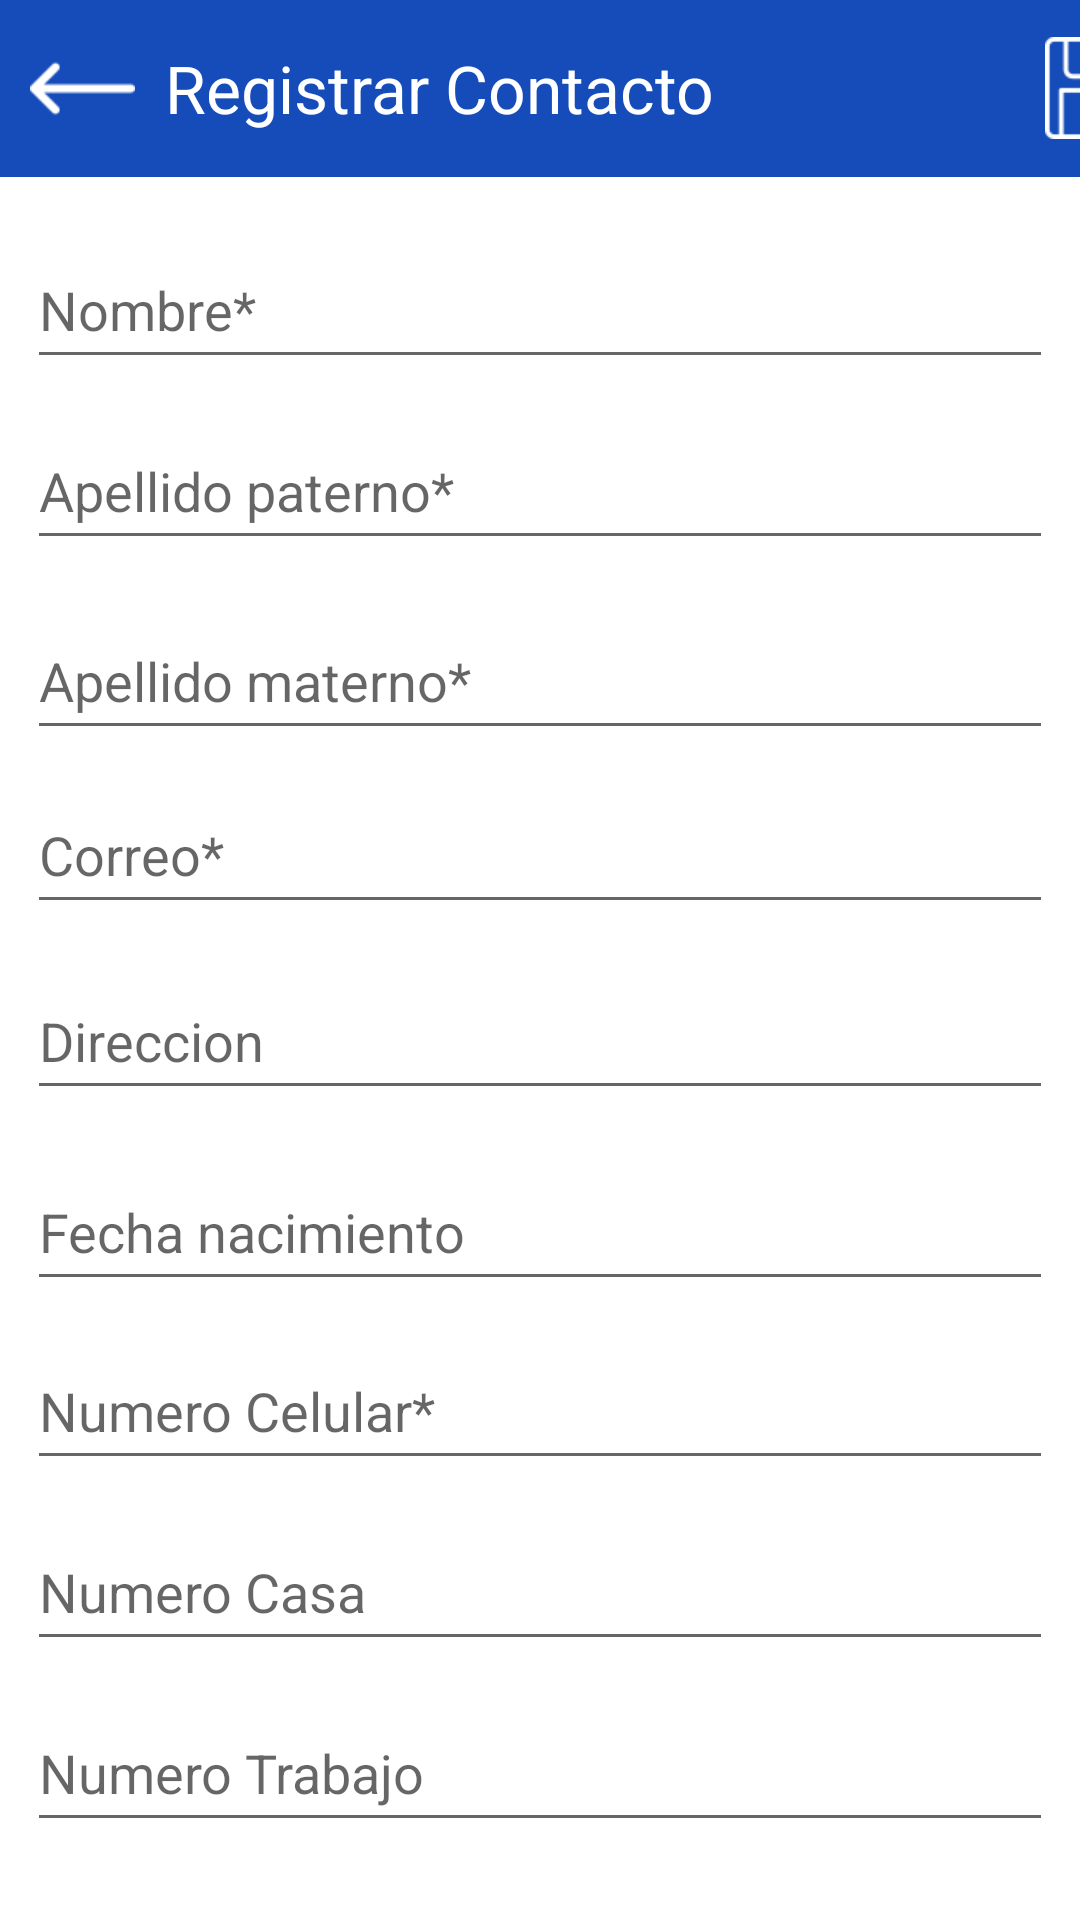

Icons on this 1080 × 1920 Android screen, each with its box as (x1, y1, x2, y2):
flecha: (30, 62, 135, 115)
